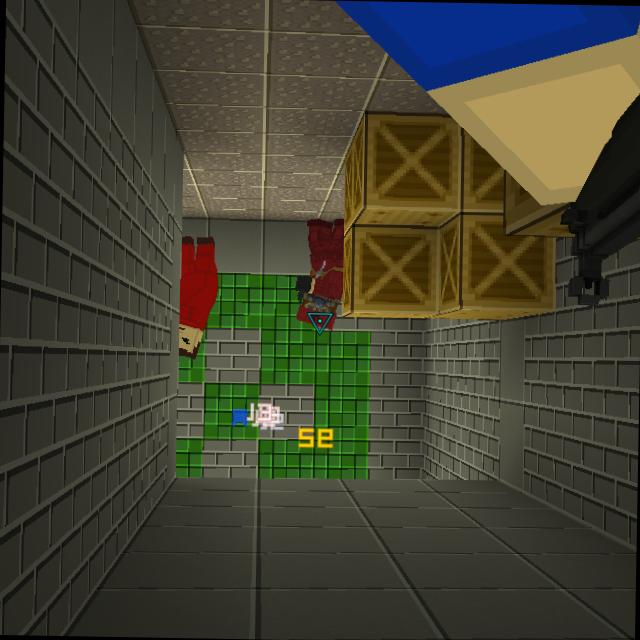enemy: (290, 215, 347, 332), (178, 235, 220, 368)
